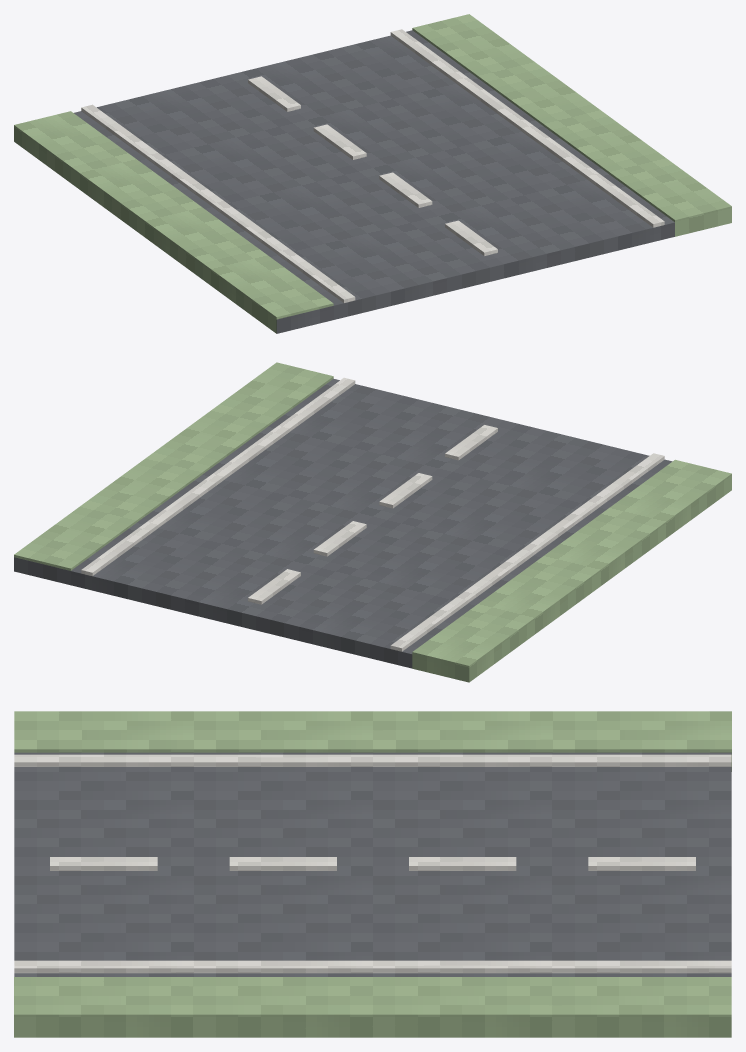
Rendered from pixel-modern-farm-farm-road-tile-342944ad__29089.glb.
The picture shows the model from 3 angles, top to bottom: view 1: azimuth 30°, elevation 25°; view 2: azimuth 150°, elevation 25°; view 3: azimuth 270°, elevation 25°; orthographic projection. The views are drawn at different scales.
Parts seen in each view (by area): view 1: farm-road-tile; view 2: farm-road-tile; view 3: farm-road-tile.
Boxes of the visible parts, bbox=[...] form: farm-road-tile: bbox=[14, 14, 731, 333]; farm-road-tile: bbox=[14, 362, 731, 682]; farm-road-tile: bbox=[14, 711, 731, 1037].
Bounding box in the file's own units: 4 × 0.15 × 4.
Materials: 3 (3 with a texture image).
